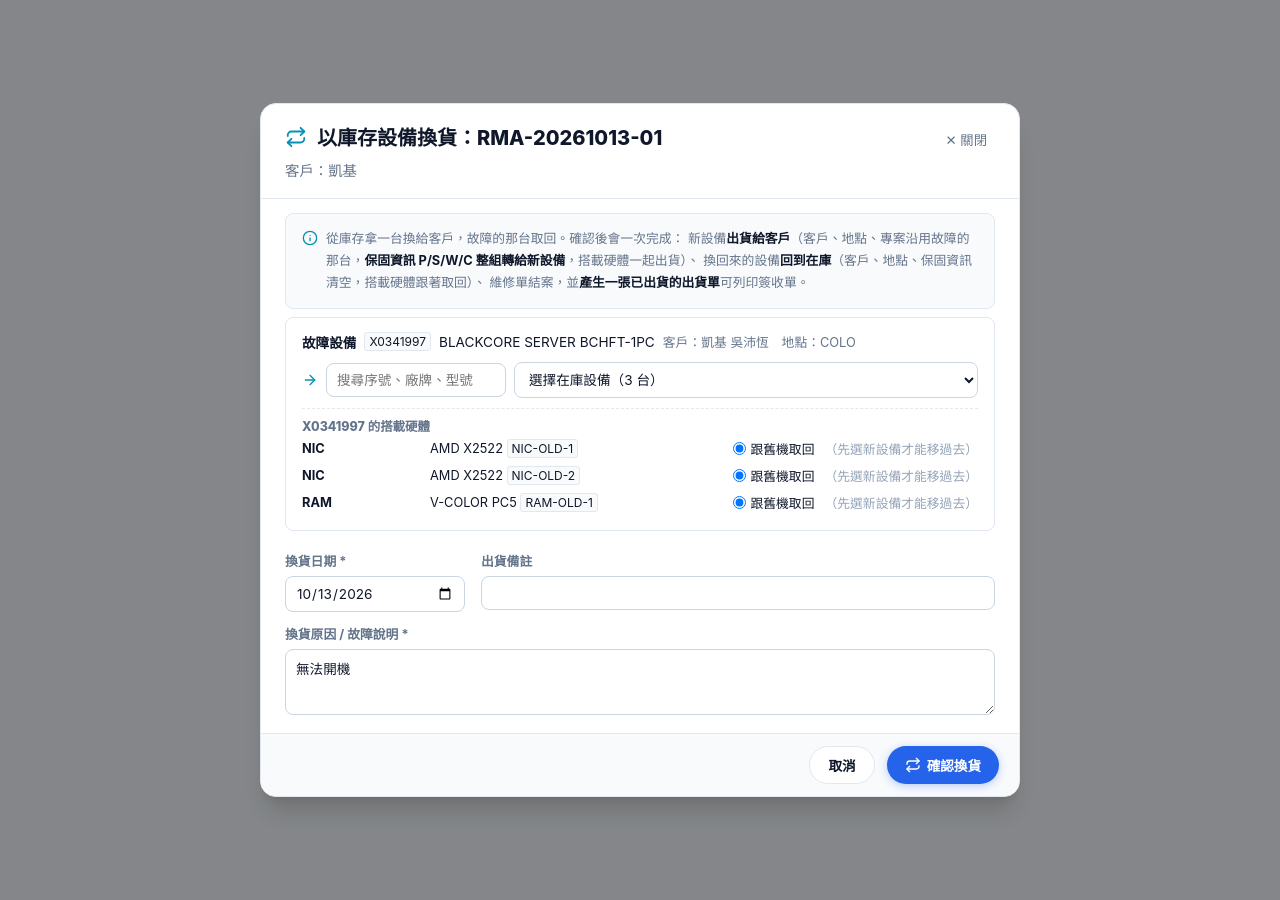
Test: 換貨視窗 › 搭載硬體逐件選擇 › 列出舊機的搭載硬體，預設跟舊機取回；選了新設備才能移過去
The width and height of the screenshot is (1280, 900).
Expected: the radio button labelled "跟舊機取回" in the row of "NIC-OLD-1" is checked, x1=734 y1=442 x2=746 y2=455
Expected: the field labelled "移到新設備" is not shown
Select "【同類型】X0346994 — BLACKCORE 3122-RL（搭載 2 件）" in the dropdown named "換給客戶的設備 X0341997": {"x": 746, "y": 380} x1=514 y1=362 x2=978 y2=398
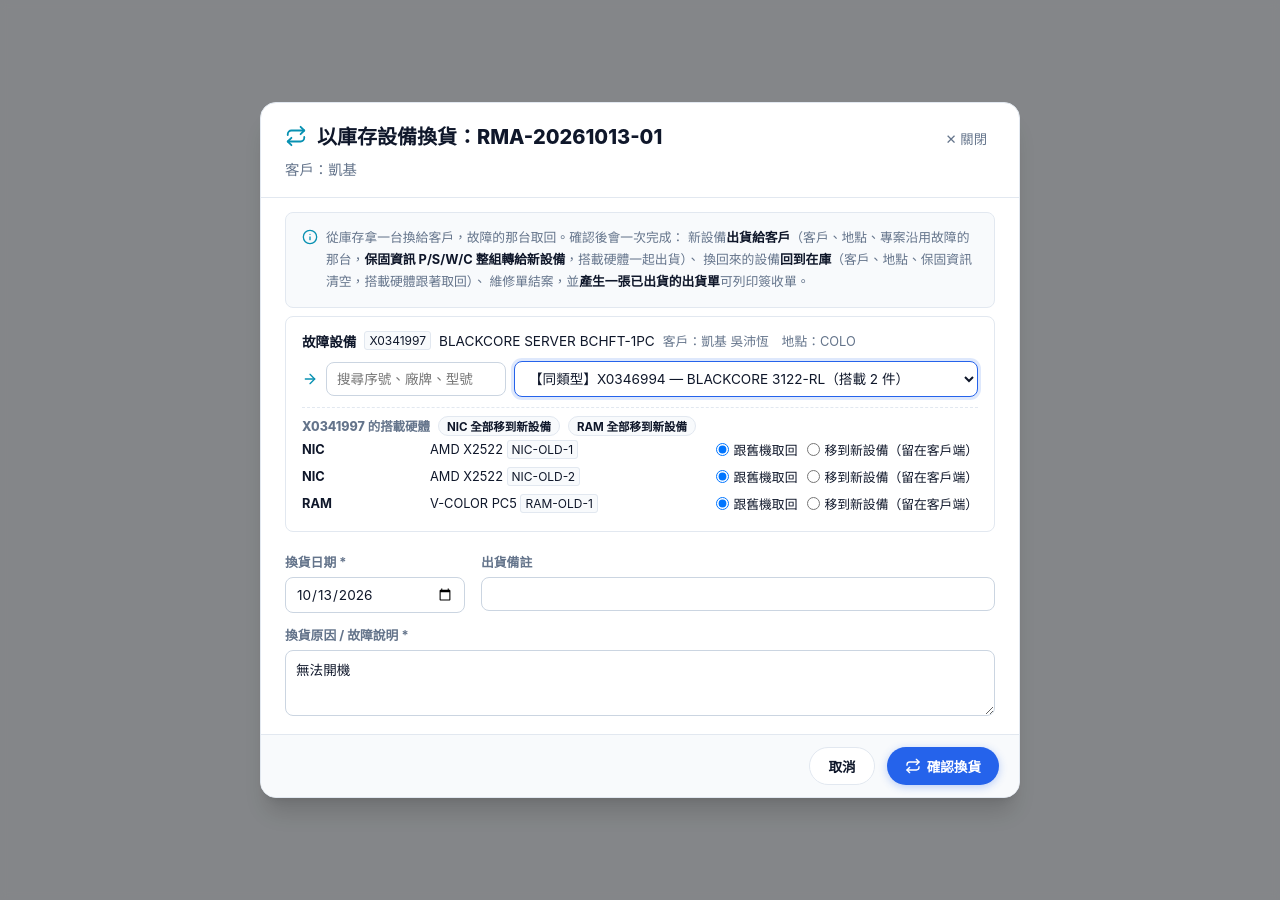
Expected: the radio button labelled "移到新設備（留在客戶端）" in the row of "NIC-OLD-1" is not checked, x1=807 y1=443 x2=820 y2=456
